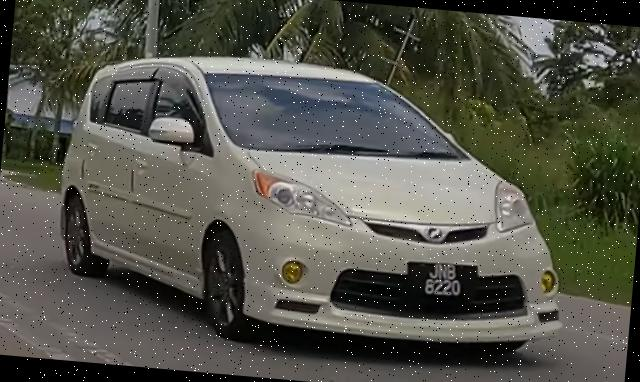License_Plate: (409, 260, 479, 303)
car: (49, 41, 585, 369)
